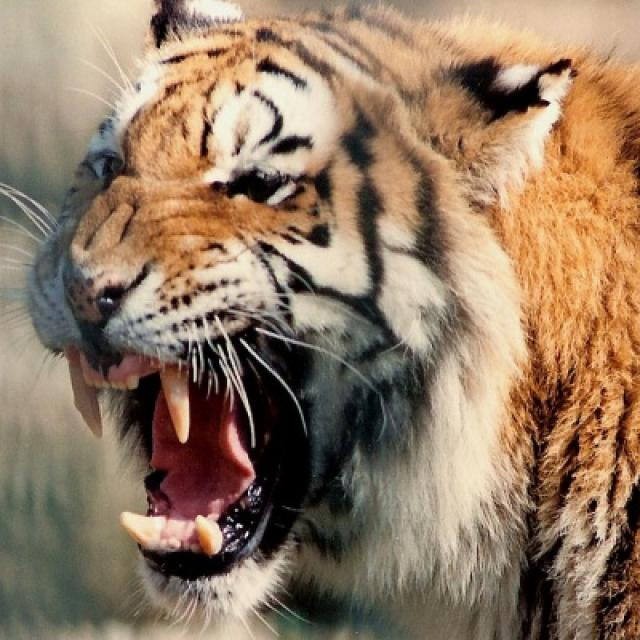Tiger: (25, 2, 638, 636)
